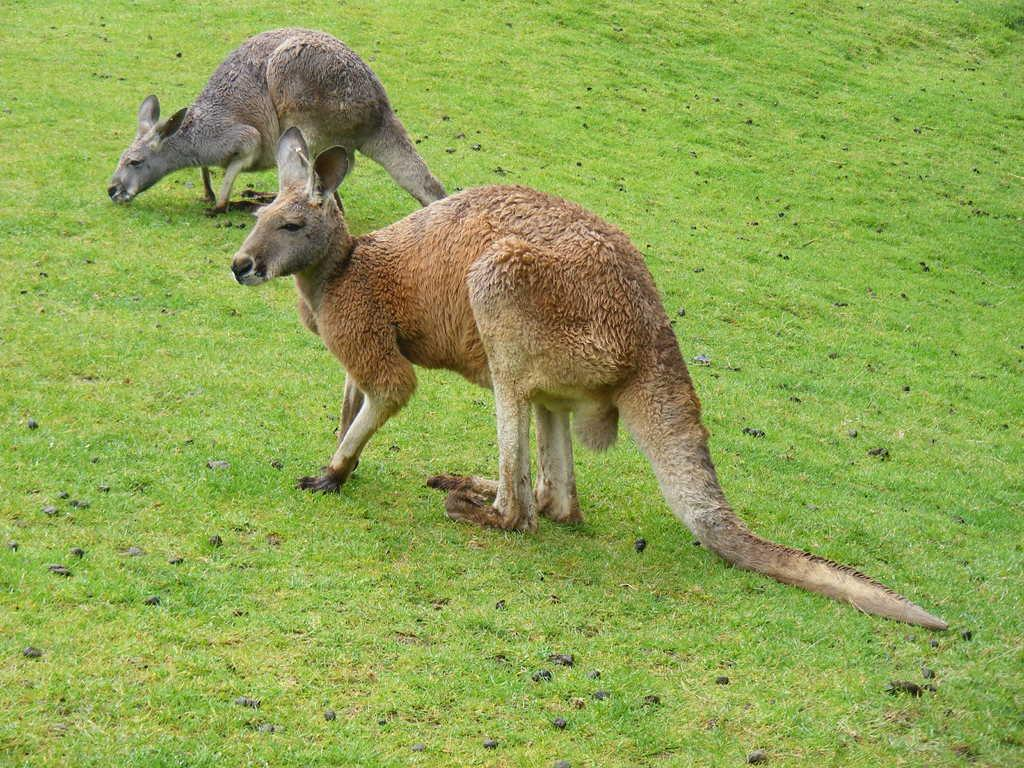kangaroo: (232, 127, 949, 633), (106, 26, 450, 224)
